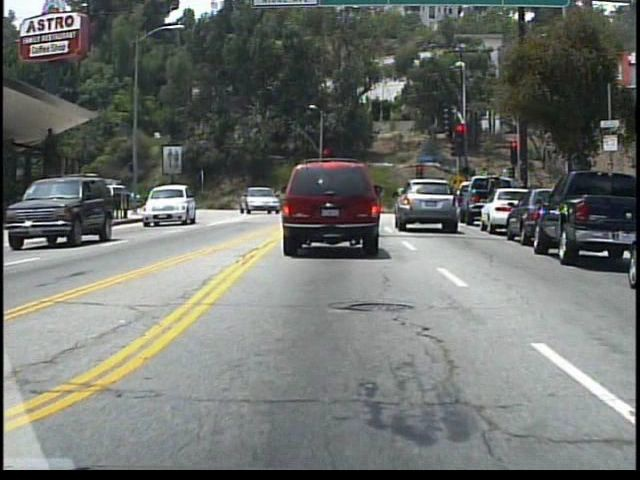person: (258, 187, 273, 212)
